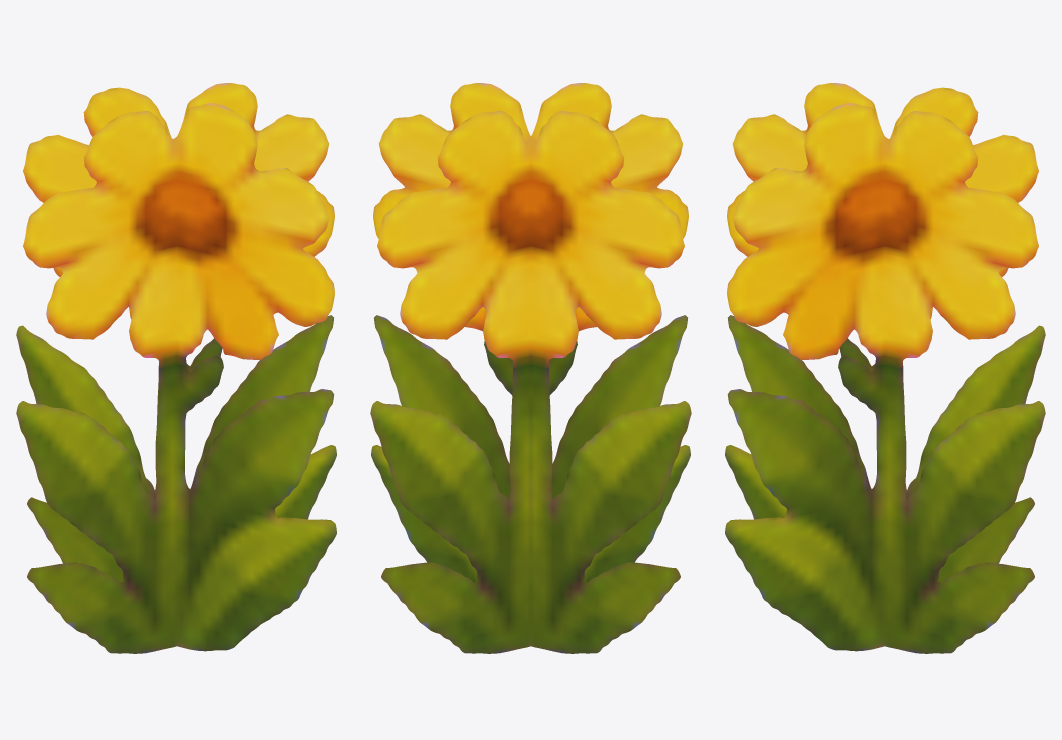
File: h_ruche_fleur.glb
3 renders of one model, left to right at view 1: azimuth 30°, elevation 25°; view 2: azimuth 150°, elevation 25°; view 3: azimuth 270°, elevation 25°, orthographic.
Parts seen in each view (by area): view 1: h_ruche_fleur; view 2: h_ruche_fleur; view 3: h_ruche_fleur.
Boxes of the visible parts, x1,y1,x2,y2 form: h_ruche_fleur: (16,83,336,653); h_ruche_fleur: (370,83,691,653); h_ruche_fleur: (725,83,1045,653).
Size of the model in its own units: 0.1973 by 0.32 by 0.1709.
Materials: 1 (1 with a texture image).
